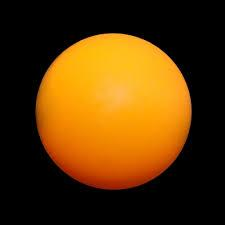oball: (34, 33, 192, 190)
